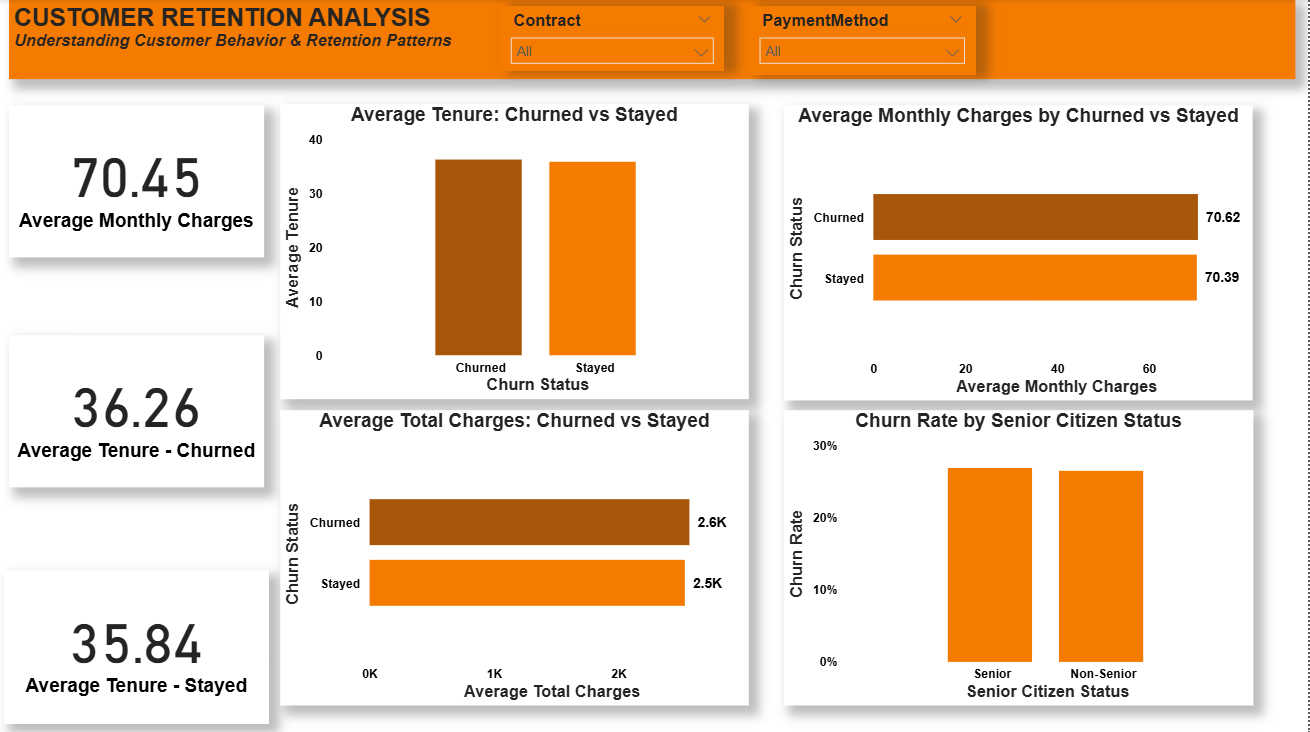

The dashboard page shown, as its layout file describes it:
{"tool":"powerbi","page":{"name":"Customer Retention Analysis","canvas":[1280,720],"ordinal":1},"visuals":[{"type":"textbox","box":[9.8,0,1258.3,78.3],"z":0},{"type":"card","fields":{"Values":["Customer_Churn_Analysis.Average Monthly Charges"]},"box":[9.8,103.9,249.5,149.2],"z":1000},{"type":"card","fields":{"Values":["Customer_Churn_Analysis.Average Tenure - Churned"]},"box":[9.8,328.9,249.5,149.2],"z":2000},{"type":"card","fields":{"Values":["Customer_Churn_Analysis.Average Tenure - Stayed"]},"box":[4.9,558.8,259.2,150.4],"z":3000},{"type":"clusteredColumnChart","title":"Average Tenure: Churned vs Stayed","fields":{"Category":["Customer_Churn_Analysis.Churn Status"],"Y":["Customer_Churn_Analysis.Average Tenure"]},"box":[275.1,102.7,458,288.6],"z":4000},{"type":"clusteredBarChart","title":"Average Monthly Charges by Churned vs Stayed","fields":{"Category":["Customer_Churn_Analysis.Churn Status"],"Y":["Customer_Churn_Analysis.Average Monthly Charges"]},"box":[767.9,103.9,458.6,288.6],"z":5000},{"type":"clusteredBarChart","title":"Average Total Charges: Churned vs Stayed","fields":{"Category":["Customer_Churn_Analysis.Churn Status"],"Y":["Customer_Churn_Analysis.Average Total Charges"]},"box":[275,402,458,289],"z":6000},{"type":"clusteredColumnChart","fields":{"Y":["Customer_Churn_Analysis.Churn Rate"],"Category":["Customer_Churn_Analysis.Senior Citizen Status"]},"box":[768,402,459,289],"z":7000},{"type":"slicer","fields":{"Values":["Customer_Churn_Analysis.Contract"]},"box":[490.4,7.3,218.9,63.6],"z":8000},{"type":"slicer","fields":{"Values":["Customer_Churn_Analysis.PaymentMethod"]},"box":[733.7,7.3,221.3,67.3],"z":9000}]}

Visuals, with their boxes in screenshot pixels (x1, y1, x2, y2), scaled from the page's 1280x720 canvas onto the 1310x732 screenshot:
textbox: 10, 0, 1298, 80
card - Customer_Churn_Analysis.Average Monthly Charges: 10, 106, 265, 257
card - Customer_Churn_Analysis.Average Tenure - Churned: 10, 334, 265, 486
card - Customer_Churn_Analysis.Average Tenure - Stayed: 5, 568, 270, 721
"Average Tenure: Churned vs Stayed" clusteredColumnChart: 282, 104, 750, 398
"Average Monthly Charges by Churned vs Stayed" clusteredBarChart: 786, 106, 1255, 399
"Average Total Charges: Churned vs Stayed" clusteredBarChart: 281, 409, 750, 703
clusteredColumnChart - Customer_Churn_Analysis.Churn Rate x Customer_Churn_Analysis.Senior Citizen Status: 786, 409, 1256, 703
slicer - Customer_Churn_Analysis.Contract: 502, 7, 726, 72
slicer - Customer_Churn_Analysis.PaymentMethod: 751, 7, 977, 76
